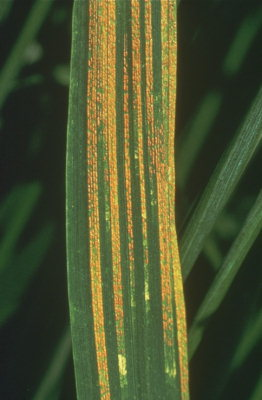Leaf: (70, 3, 193, 395)
Yellow Rust: (87, 4, 126, 393), (160, 7, 188, 391), (130, 5, 153, 307)
